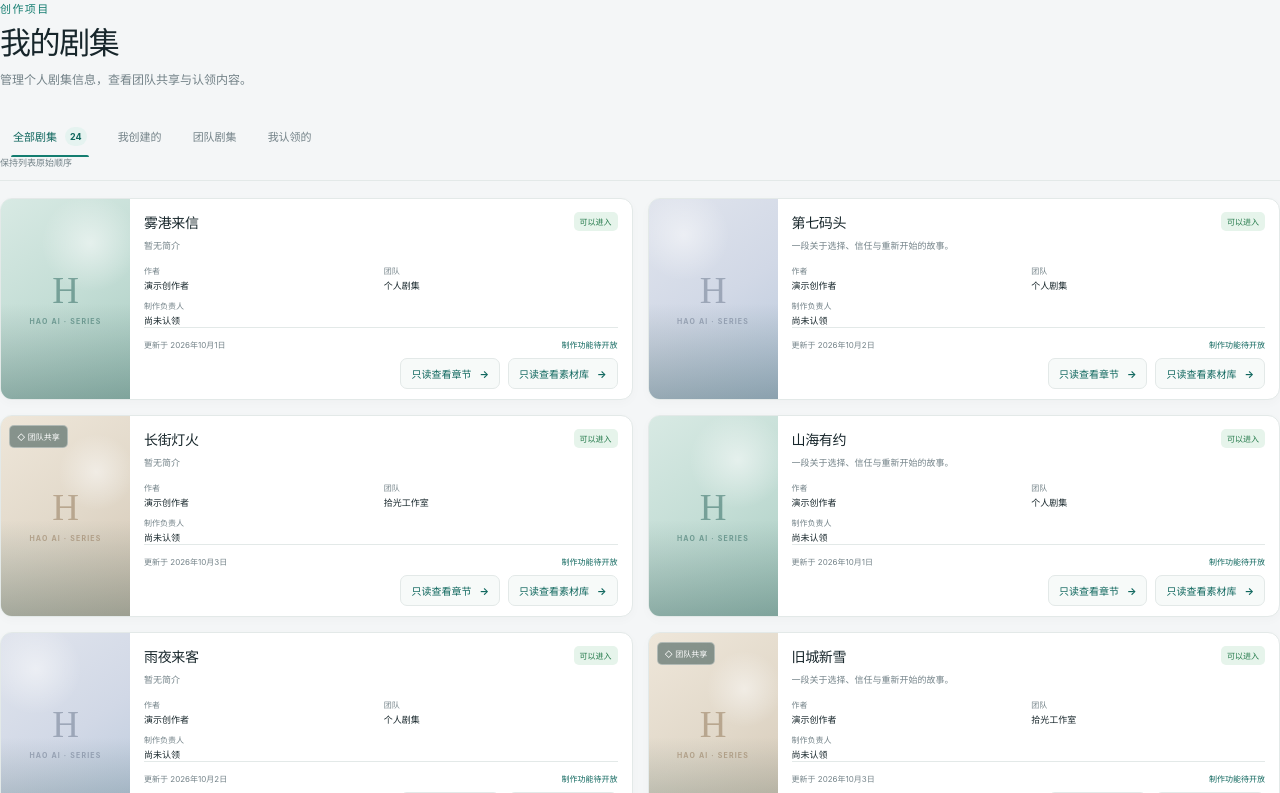
Test: SeriesPage list behavior › requests teams only in the visible team category and keeps options distinct by ID
This screenshot has width=1280, height=793.
Click the button "我认领的" at [290, 136], box 255,116 -> 325,156
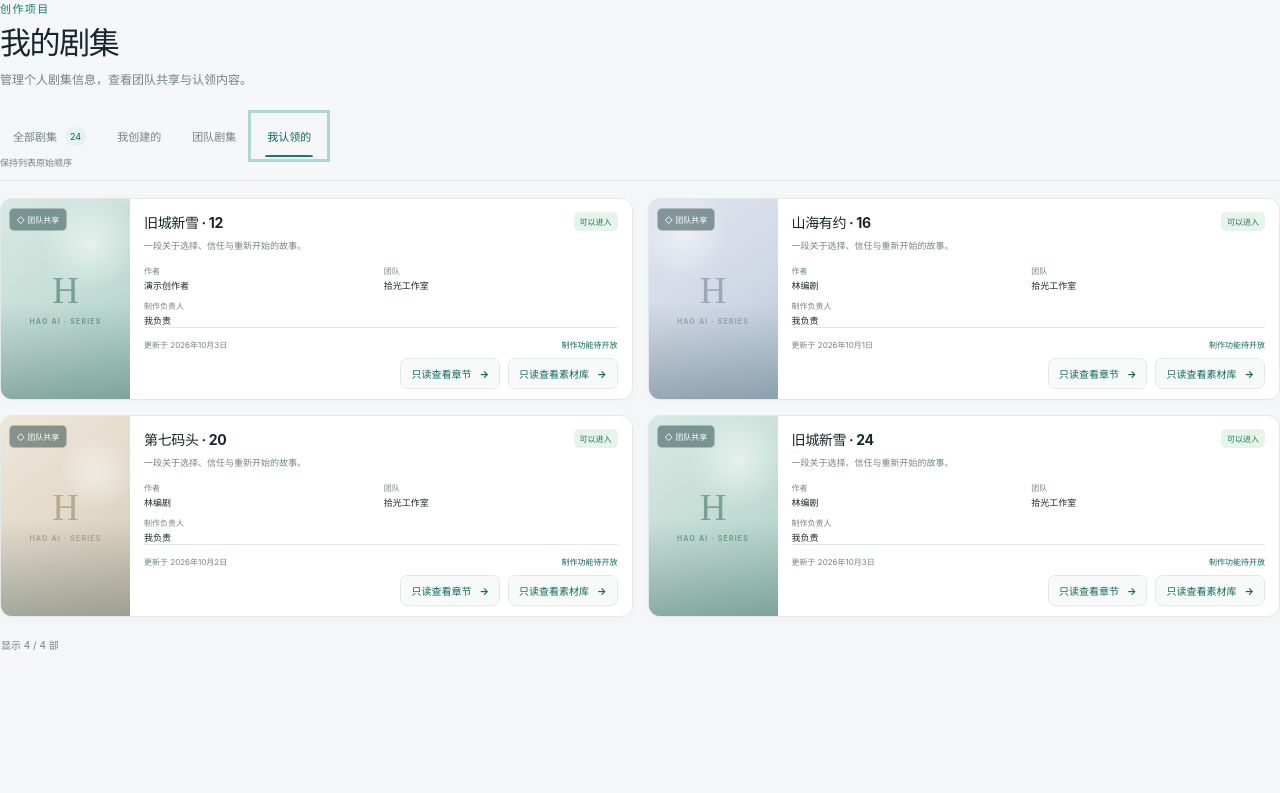
Click the button "团队剧集" at [214, 136], box 179,116 -> 249,156
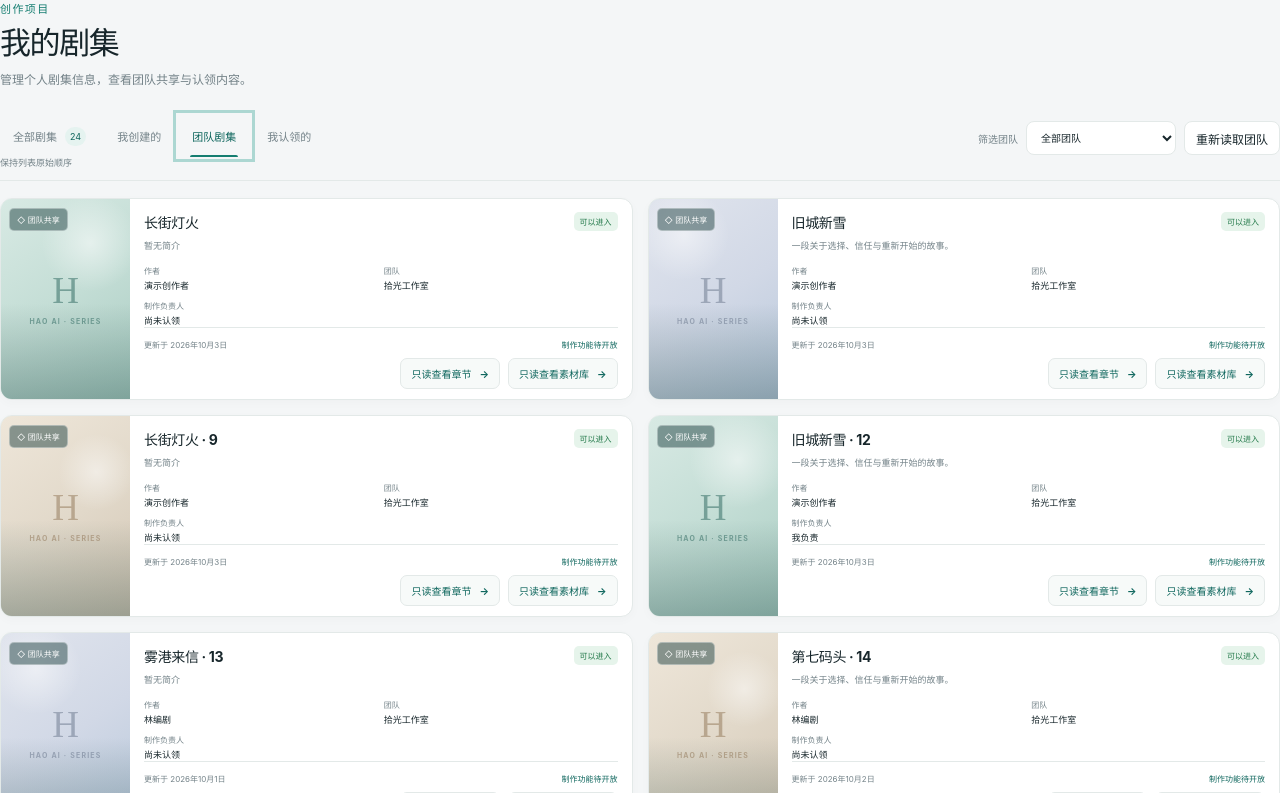
Select "暂无剧集的团队" in the dropdown labelled "筛选团队" at [1101, 138], box 1026,121 -> 1176,155
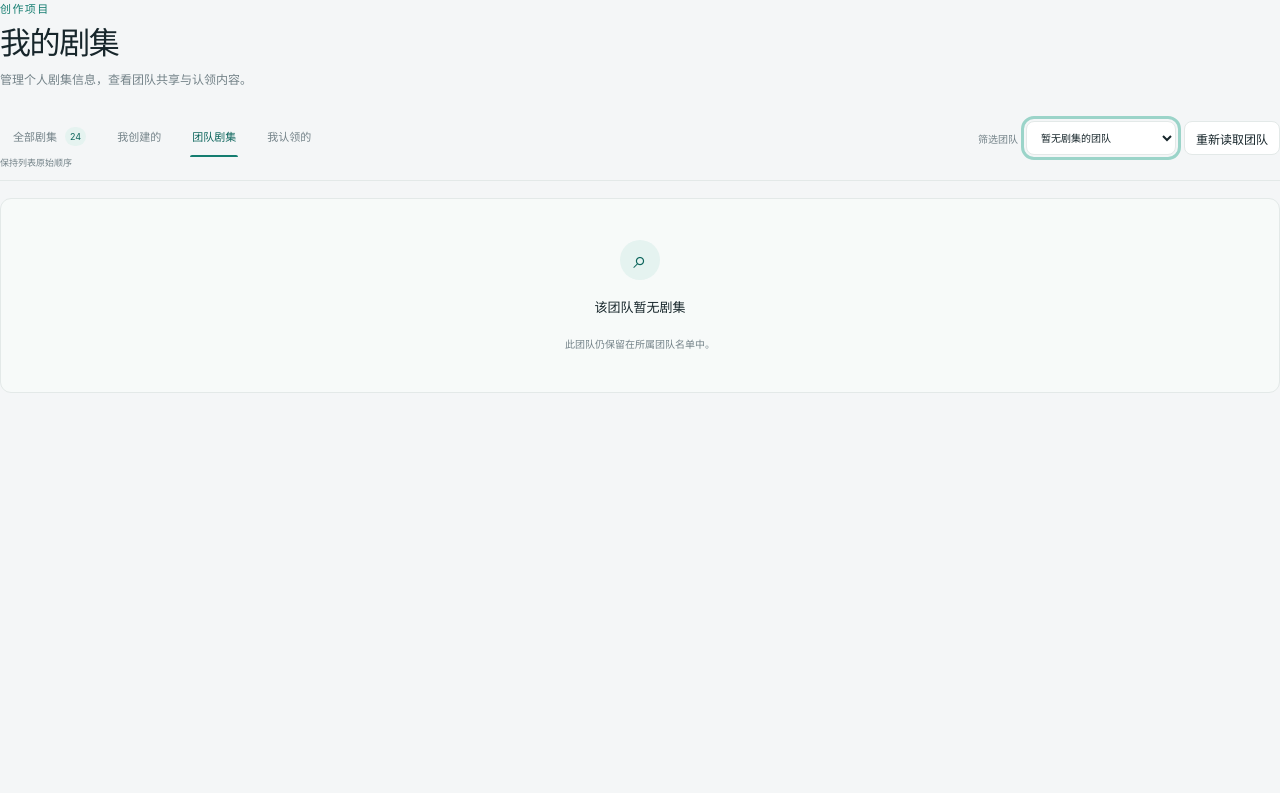
Check: the heading "该团队暂无剧集" is shown, box 594,297 -> 686,316
